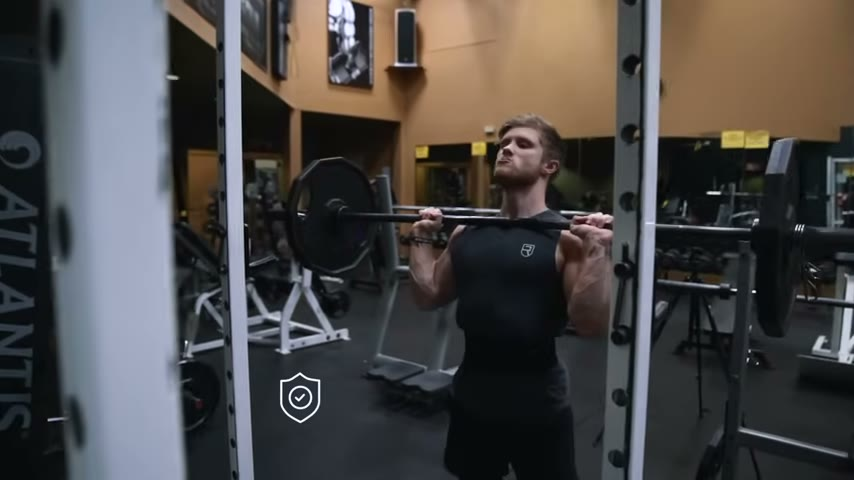barbell_plate_side: (541, 160, 635, 293)
